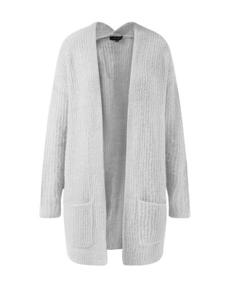C_cardigan sweater: (37, 28, 190, 269)
